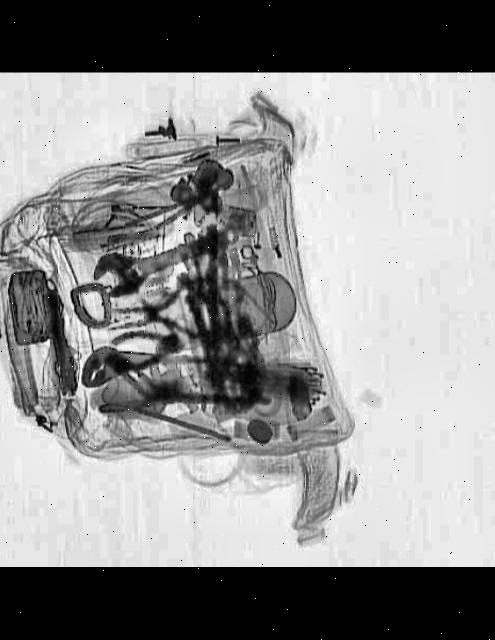Wrench: (82, 210, 246, 308)
